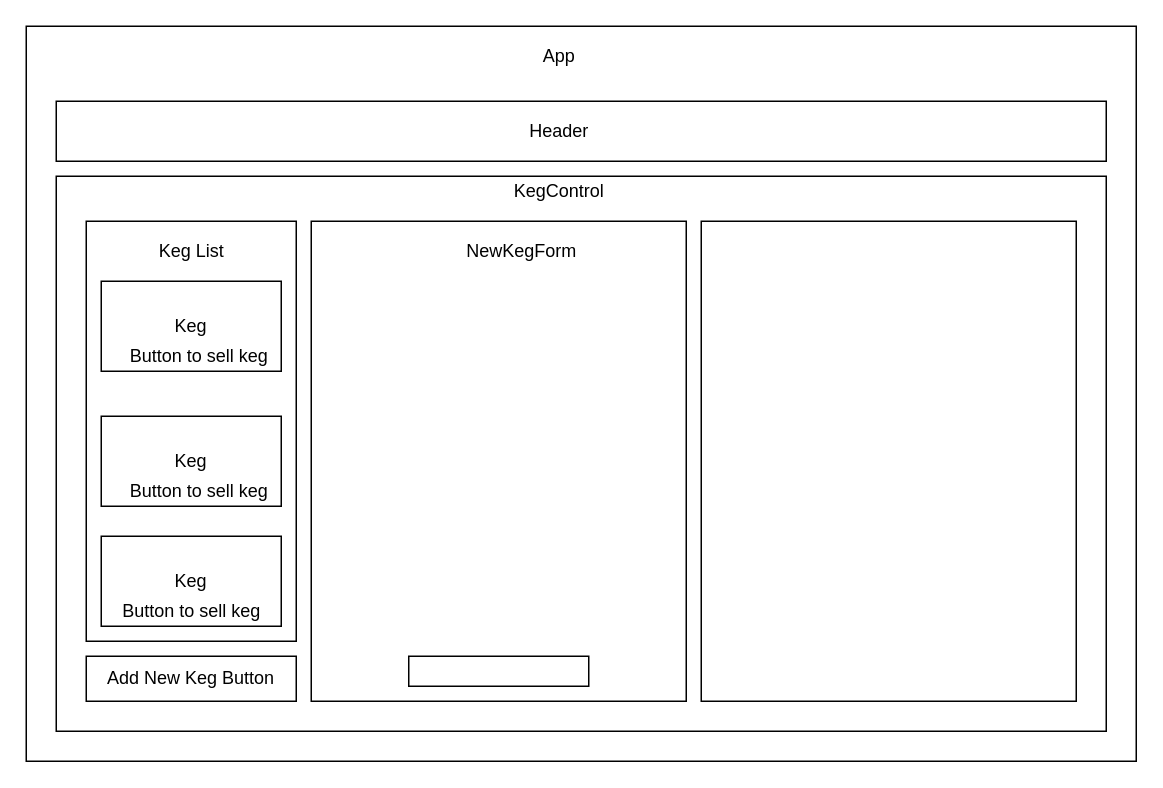
This 1163x788 diagram has some shape labels left out. Each missing label, with the centre of its shape:
"KegDetail" goes at [888,460].
"Submit Form Button" goes at [498,670].
